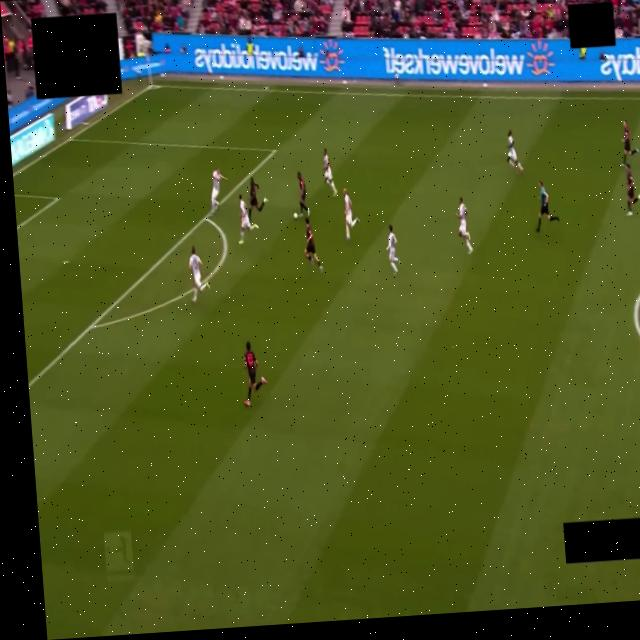ball: (294, 212, 299, 219)
player: (243, 342, 266, 406), (188, 246, 208, 302), (304, 218, 322, 272), (238, 195, 257, 244), (456, 197, 472, 253), (248, 177, 266, 222), (343, 188, 358, 240), (624, 164, 639, 215), (622, 120, 638, 166), (210, 168, 225, 215), (507, 130, 522, 173), (323, 148, 336, 196), (386, 225, 398, 273), (296, 172, 308, 217)
referee: (536, 181, 558, 232)
